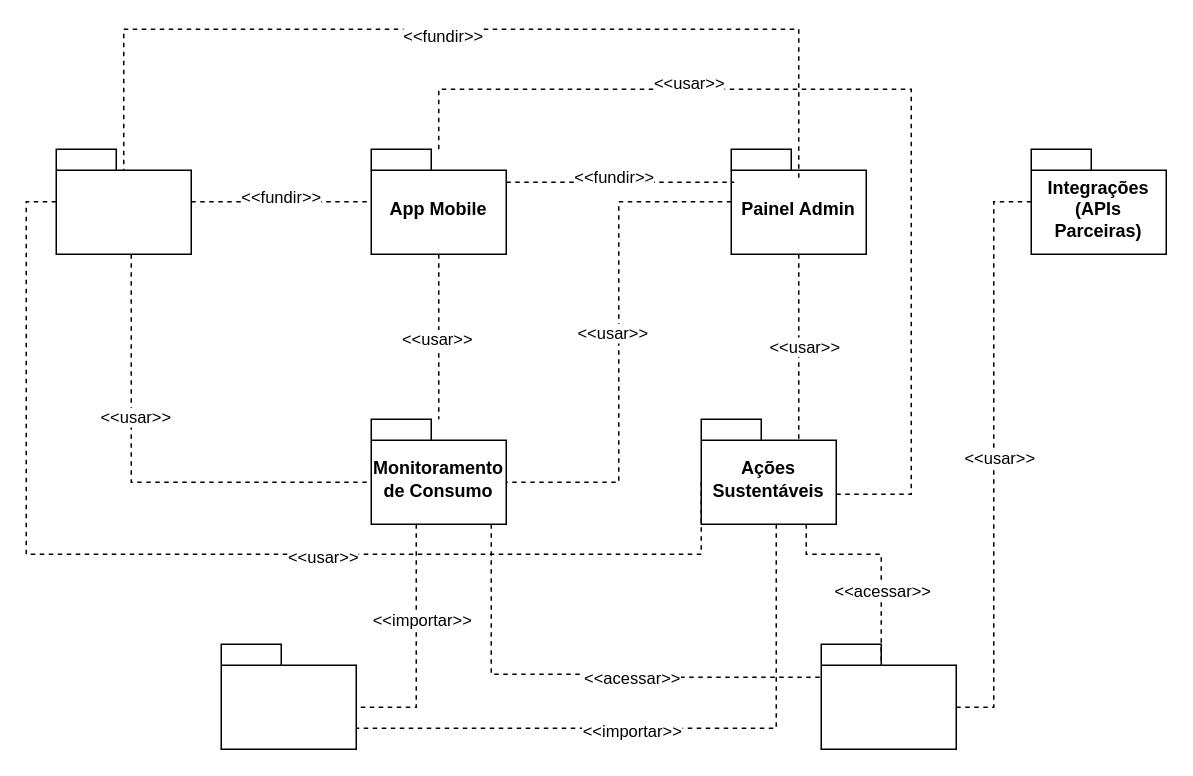
The diagram is 1193 pixels wide and 776 high, and some of its shapes have lost their labels. The centre of each missing label's shape, as x and y in pixels:
"Cadastro & Usuários" belongs at pixel 288 696.
"Portal Web" belongs at pixel 123 201.
"Tokens & Parcerias" belongs at pixel 888 696.
